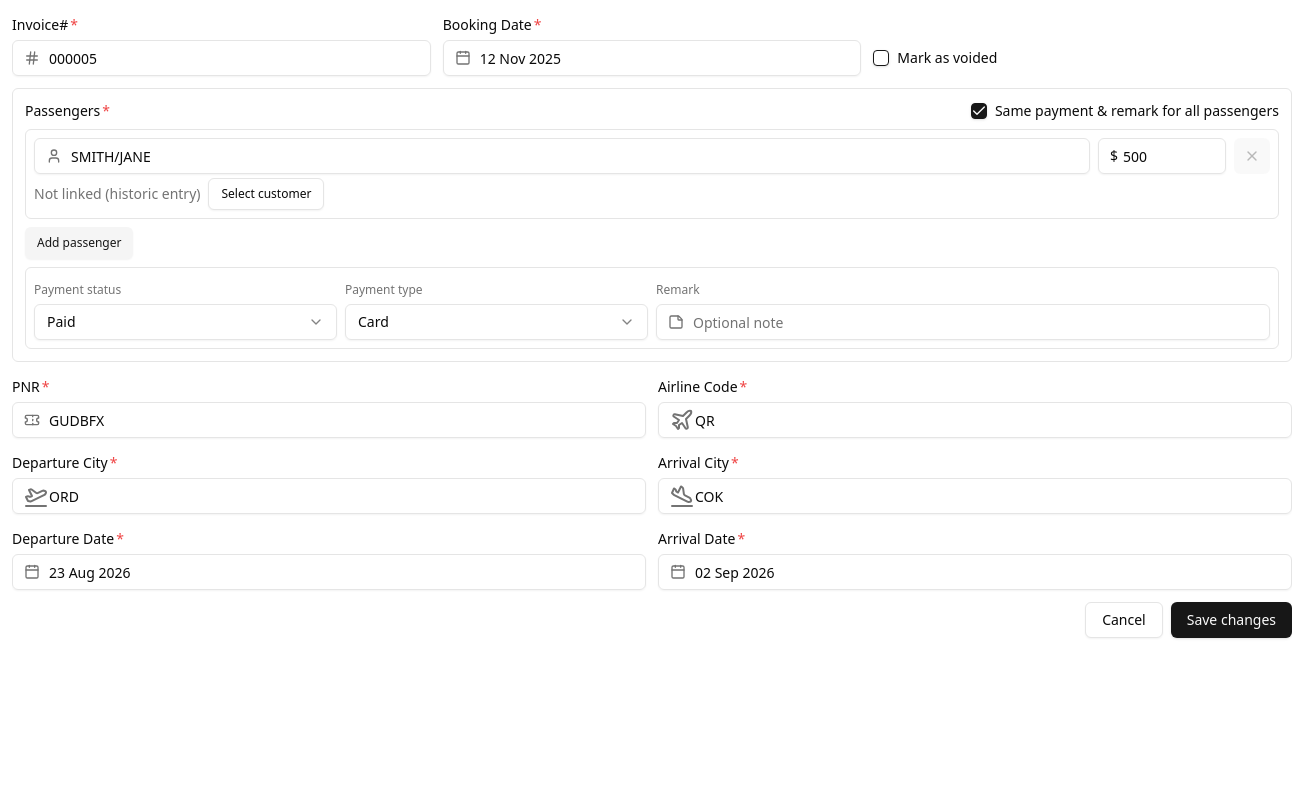
BookingForm booking date › shows the originally recorded name while re-searching a historic unlinked passenger
Expected: the text "Not linked (historic entry)" is shown, [34, 184, 200, 204]
Click the button with aria-label "Select customer for passenger 1".
click(266, 194)  # box [208, 178, 324, 210]
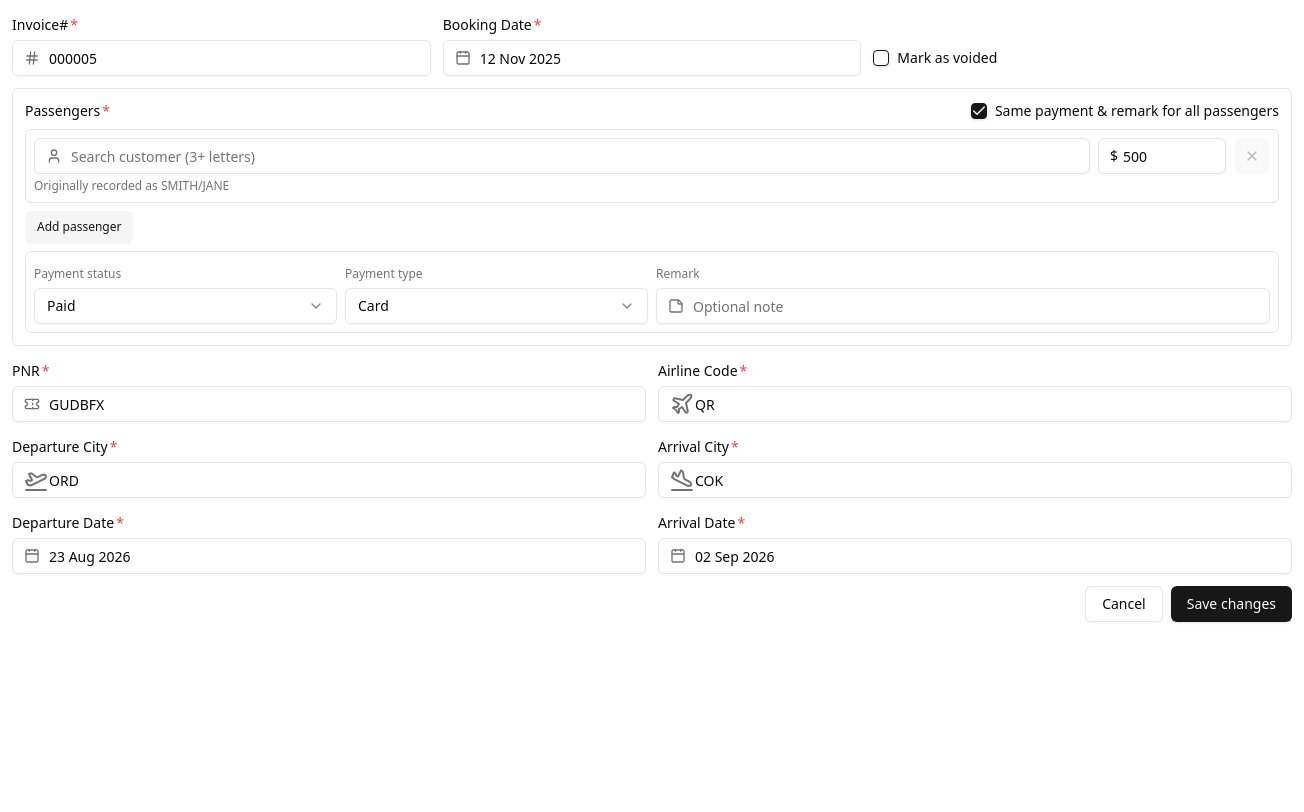
Now the text "Originally recorded as SMITH/JANE" is shown, box [34, 177, 229, 194]
